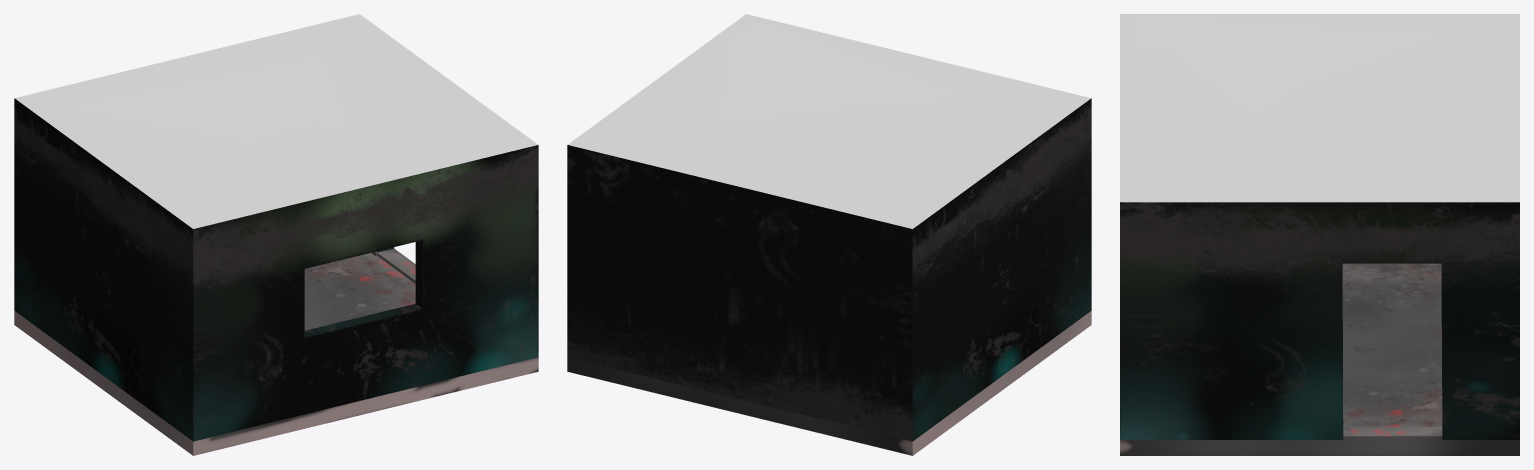
The model's file is HOUSE.fbx.
3 renders of one model, left to right at view 1: azimuth 30°, elevation 25°; view 2: azimuth 150°, elevation 25°; view 3: azimuth 270°, elevation 25°, orthographic. The views are drawn at different scales.
Visible parts, largest first — view 1: Cube.003, Cube.002, Cube.001; view 2: Cube.004, Cube.002, Cube.003, Cube.001; view 3: Cube.003, Cube.002, Cube.001.
Part boxes in pixels (x1,y1,x2,y2): Cube.003: (14, 98, 538, 441); Cube.002: (14, 14, 537, 228); Cube.001: (14, 248, 538, 455); Cube.004: (567, 145, 912, 441); Cube.002: (568, 14, 1091, 228); Cube.003: (912, 98, 1091, 441); Cube.001: (567, 311, 1091, 455); Cube.003: (1120, 202, 1519, 439); Cube.002: (1120, 14, 1519, 202); Cube.001: (1120, 263, 1519, 455).
Size of the model in its own units: 1613 by 1013 by 1447.
